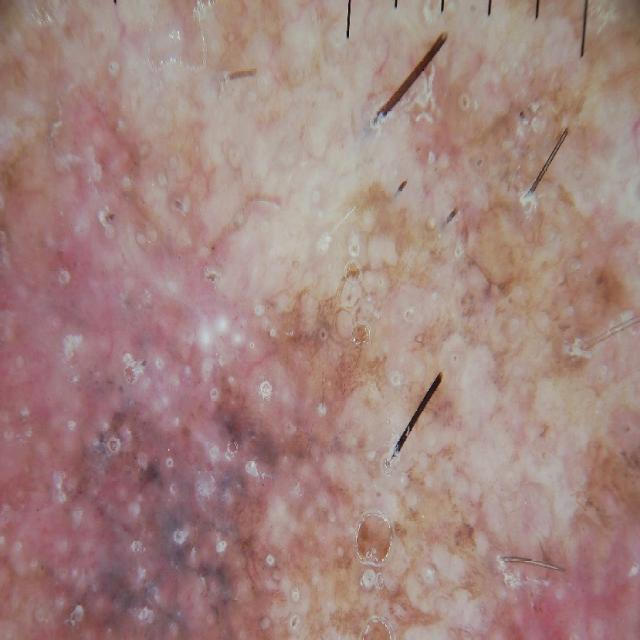Melanoma: (0, 111, 344, 640), (398, 485, 639, 640)
